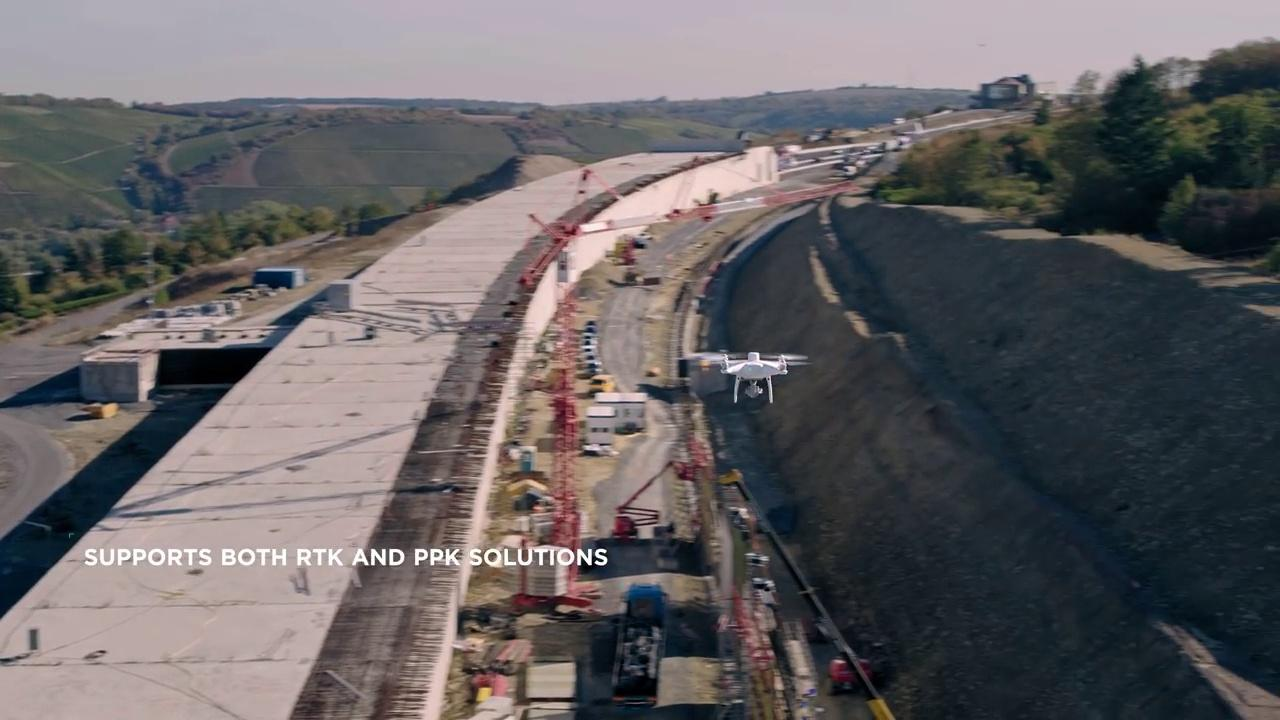drone: (691, 347, 812, 406)
